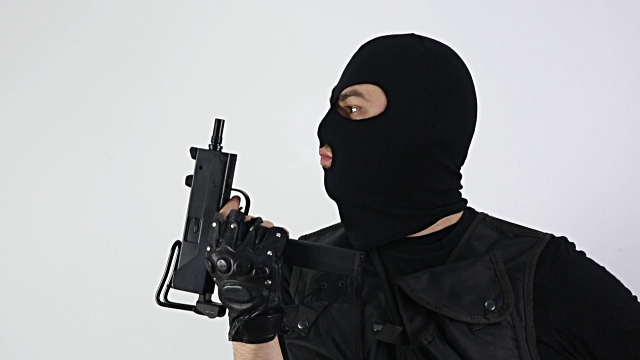pistol: (152, 111, 364, 329)
